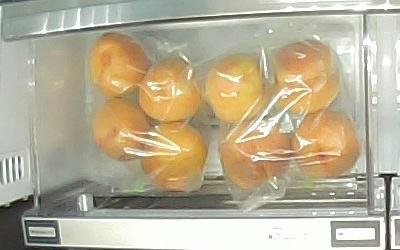peach_vinyl: (272, 39, 341, 114), (291, 109, 360, 179), (218, 122, 290, 188), (204, 54, 269, 123), (141, 122, 208, 188), (88, 33, 150, 97), (139, 58, 200, 122), (91, 98, 150, 162)
